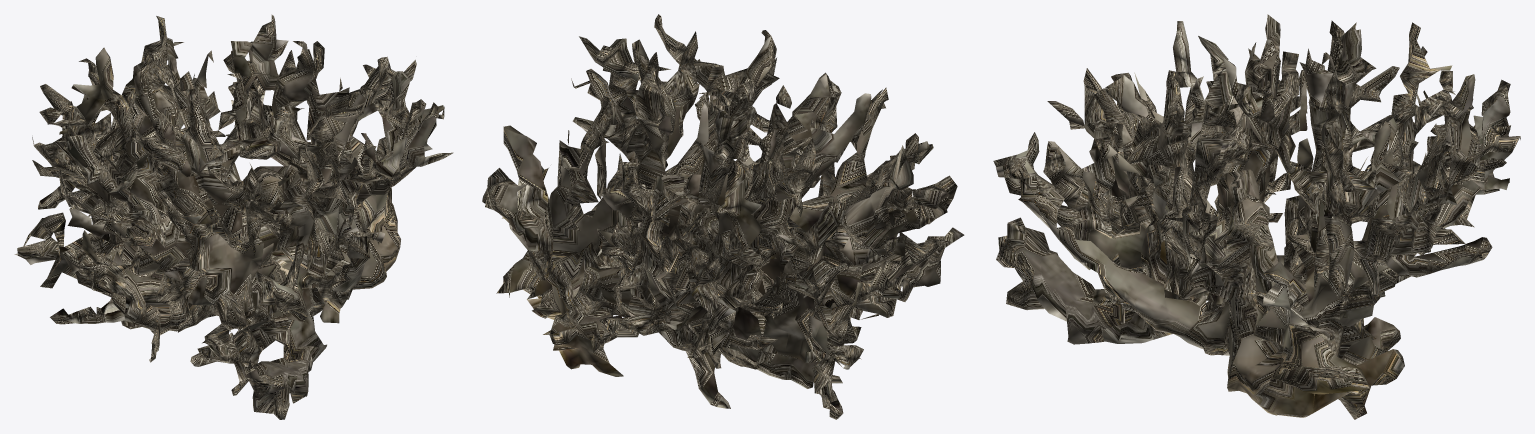
File: coral-madrepora.glb
3 views of the same model, side by side, from view 1: azimuth 30°, elevation 25°; view 2: azimuth 150°, elevation 25°; view 3: azimuth 270°, elevation 25° (orthographic). The views are drawn at different scales.
Size of the model in its own units: 0.1847 by 0.14 by 0.1908.
1 material, 1 textured.
